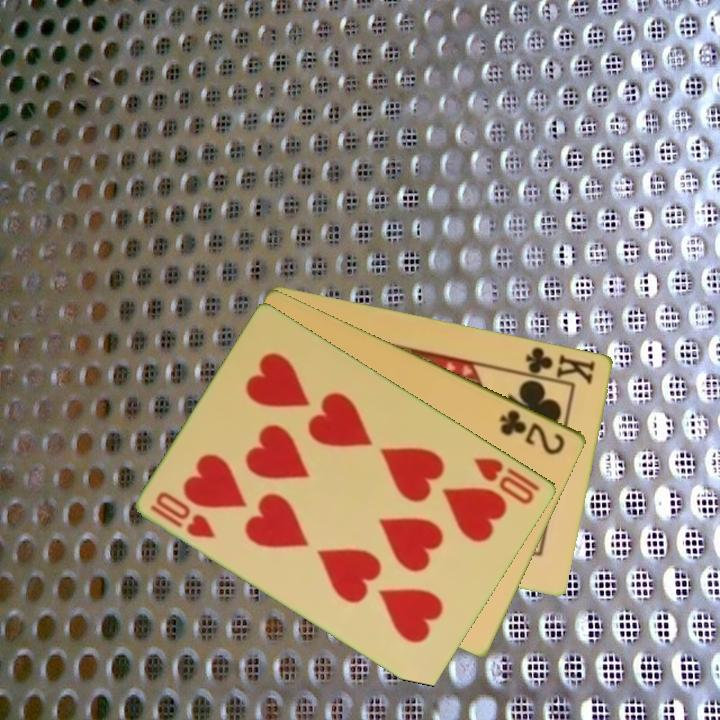10h: (470, 453, 544, 508), (146, 488, 219, 541)
2c: (496, 405, 569, 458)
Kc: (516, 343, 599, 386)
